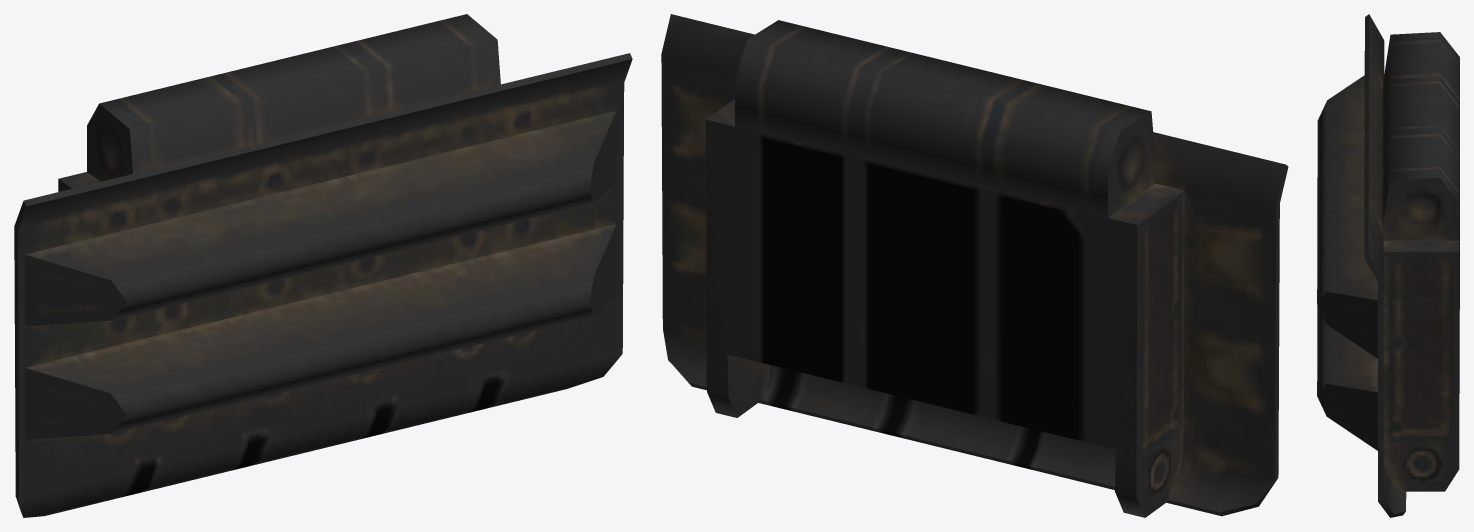
The picture shows the model from 3 angles, left to right: view 1: azimuth 30°, elevation 25°; view 2: azimuth 150°, elevation 25°; view 3: azimuth 270°, elevation 25°; orthographic projection. The views are drawn at different scales.
Parts seen in each view (by area): view 1: set_0_group_0; view 2: set_0_group_0; view 3: set_0_group_0.
Part boxes in pixels (left/top/right/bottom): set_0_group_0: left=14, top=14, right=632, bottom=517; set_0_group_0: left=661, top=14, right=1288, bottom=517; set_0_group_0: left=1317, top=14, right=1459, bottom=517.
Bounding box in the file's own units: 0.7 × 0.4164 × 0.1756.
1 material, 1 textured.
